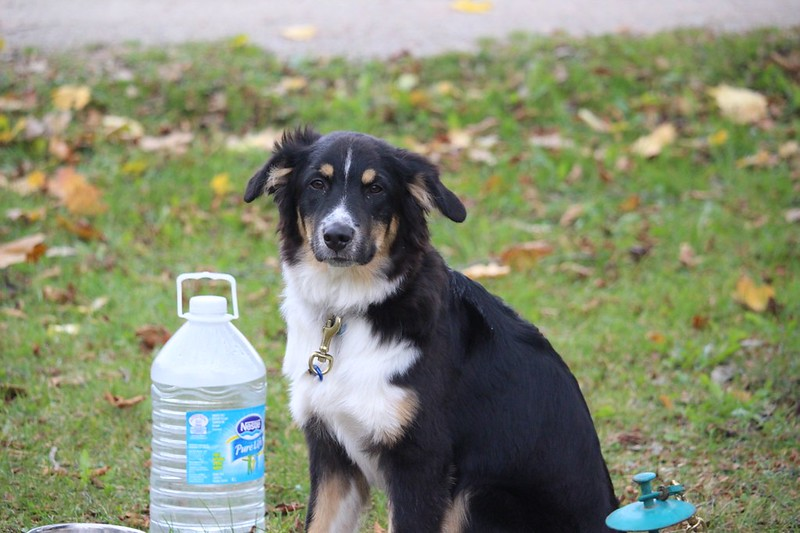bottle: (135, 237, 277, 530)
dog: (239, 110, 624, 533)
